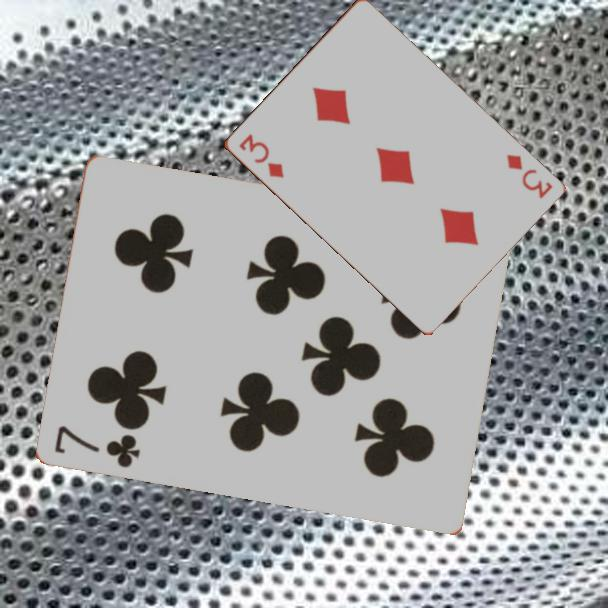c07: (51, 422, 144, 471)
d03: (502, 151, 555, 202), (235, 130, 286, 181)
